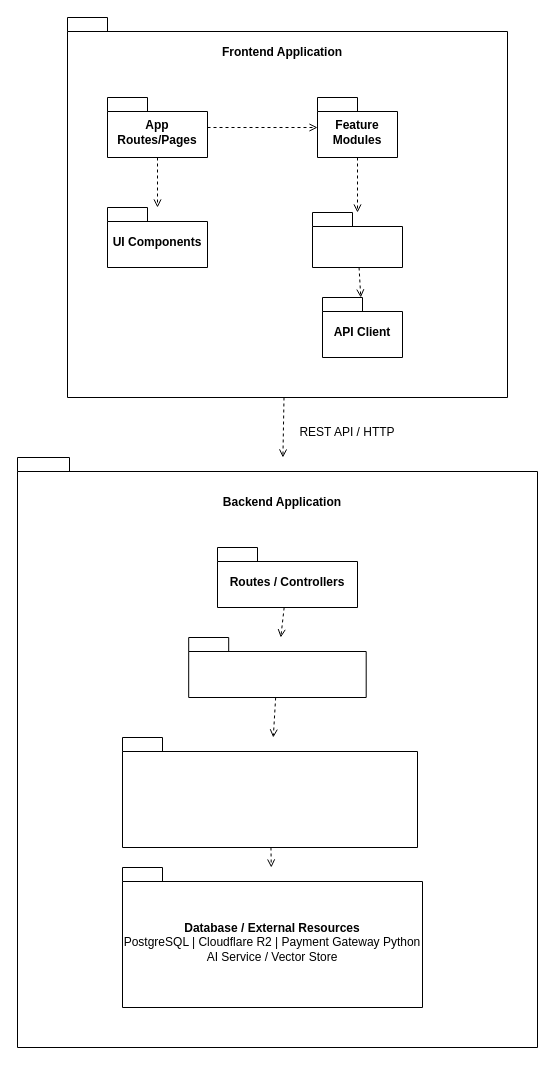
The diagram is 555 pixels wide and 1065 high, and some of its shapes have lost their labels. The shapes that lost their labels are listed below. From the top down, each one's centre as x and y in pixels, then its label:
At [357,240]: "State/Data Fetch".
At [277,667]: "Business Modules".
At [270,792]: "Persistence / Integration Repositories | Prisma | R2 | Payment | AI".
